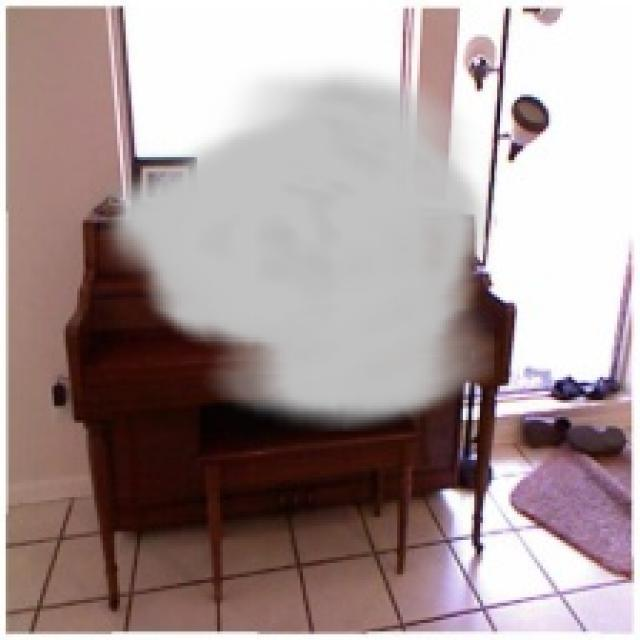Smoke: (100, 57, 494, 432)
